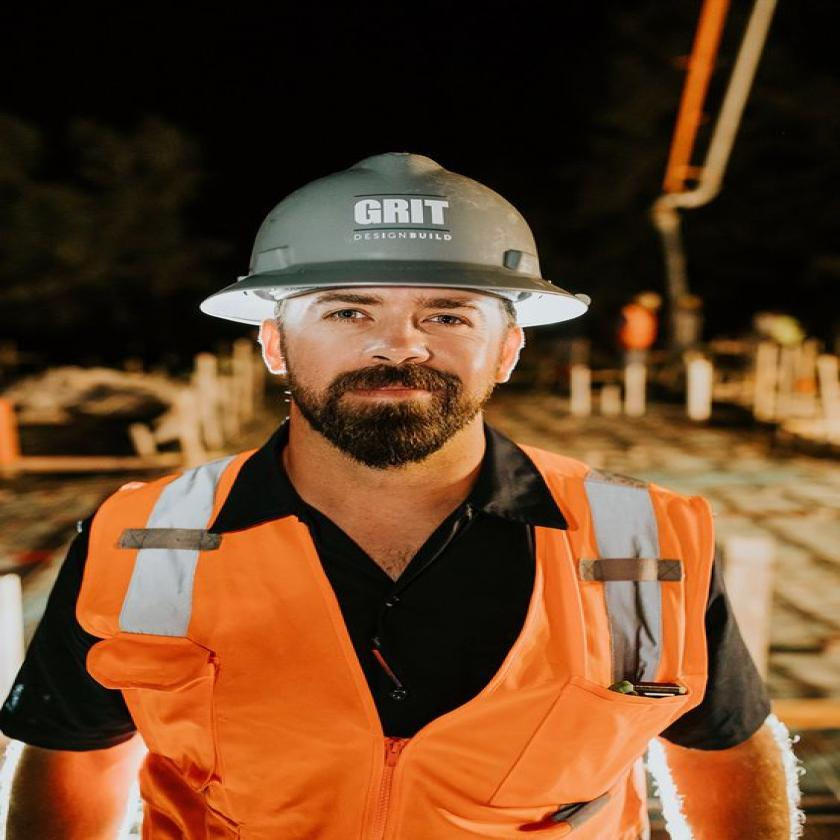Con_casco: (170, 148, 599, 462)
